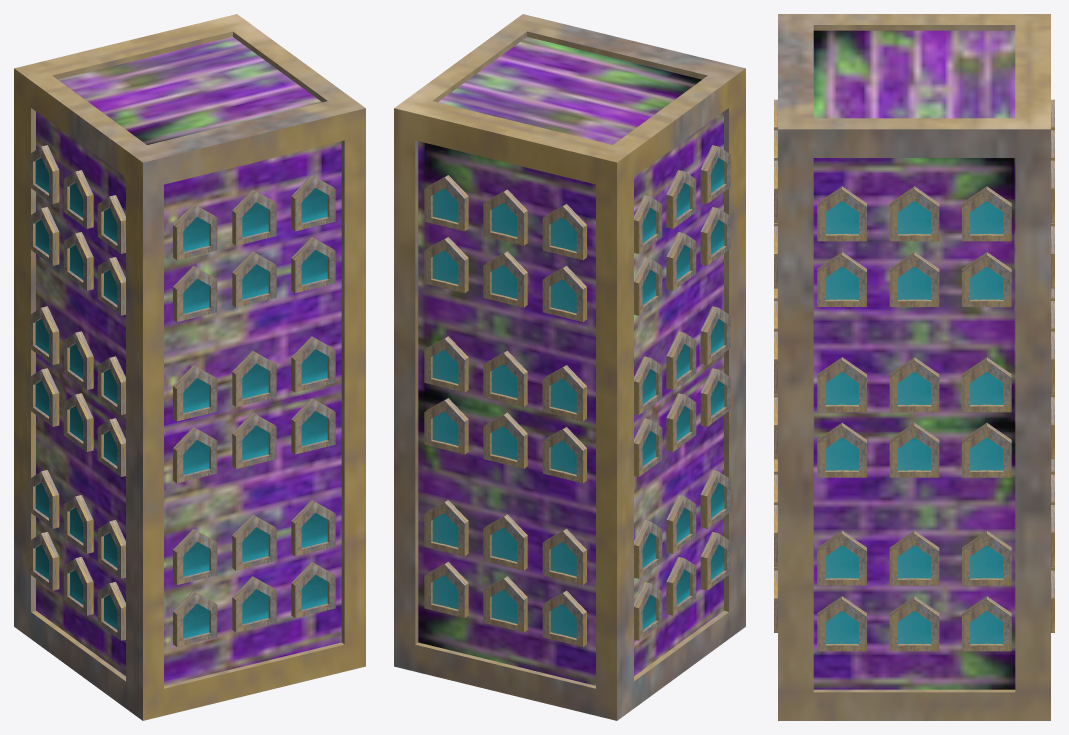
The model's file is buildvar1.fbx.
3 renders of one model, left to right at view 1: azimuth 30°, elevation 25°; view 2: azimuth 150°, elevation 25°; view 3: azimuth 270°, elevation 25°, orthographic. The views are drawn at different scales.
Visible parts, largest first — view 1: pCube1, pCylinder13, pCylinder12; view 2: pCube1, pCylinder13, pCylinder12; view 3: pCube1, pCylinder12, pCylinder13.
Part boxes in pixels (<box>): pCube1: <box>14,14,365,720</box>; pCylinder13: <box>173,175,335,646</box>; pCylinder12: <box>29,145,125,640</box>; pCube1: <box>394,14,745,720</box>; pCylinder13: <box>424,175,586,646</box>; pCylinder12: <box>634,145,730,640</box>; pCube1: <box>778,14,1050,720</box>; pCylinder12: <box>817,186,1011,651</box>; pCylinder13: <box>774,99,1054,632</box>.
Bounding box in the file's own units: 15.53 × 36.09 × 15.53.
